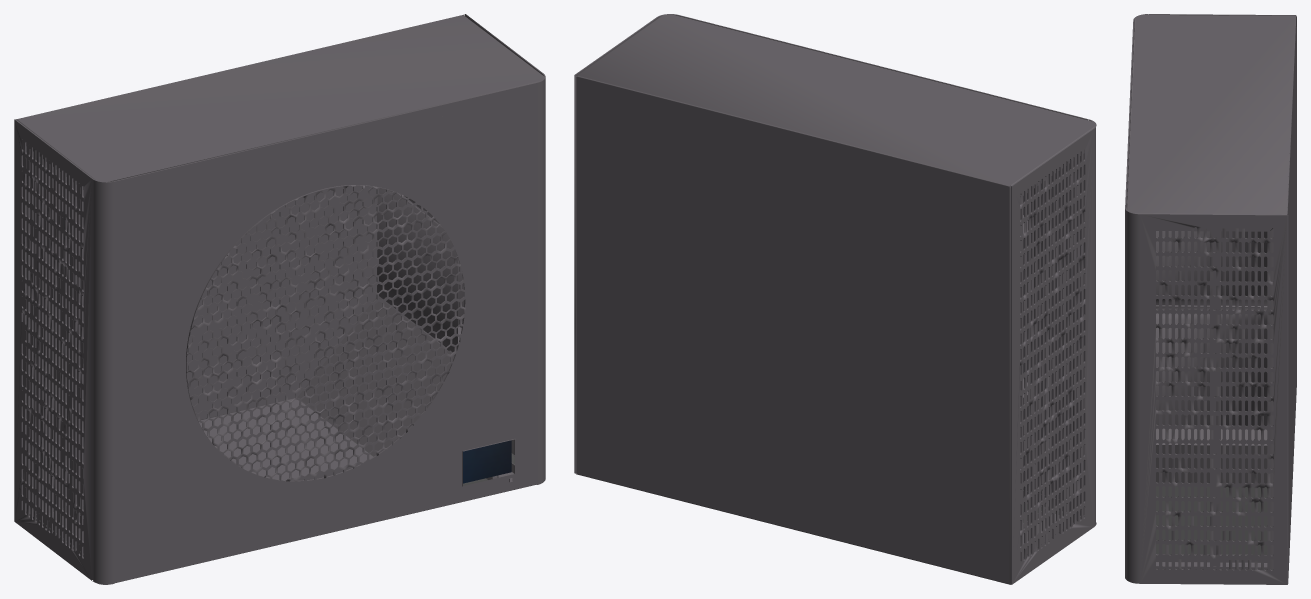
File: MRH__.glb
3 views of the same model, side by side, from view 1: azimuth 30°, elevation 25°; view 2: azimuth 150°, elevation 25°; view 3: azimuth 270°, elevation 25° (orthographic). The views are drawn at different scales.
Visible parts, largest first — view 1: imagetostl_mesh3.002, imagetostl_mesh5.003, imagetostl_mesh0.002, imagetostl_mesh3.003, imagetostl_mesh4.002, imagetostl_mesh1.002, imagetostl_mesh5.002, imagetostl_mesh2.002, imagetostl_mesh4.003, imagetostl_mesh0.003, Plane.018; view 2: imagetostl_mesh3.004, imagetostl_mesh5.003, imagetostl_mesh3.003, imagetostl_mesh3.002, imagetostl_mesh0.002, imagetostl_mesh5.002, imagetostl_mesh2.002, imagetostl_mesh4.002, imagetostl_mesh1.002, imagetostl_mesh4.003; view 3: imagetostl_mesh2.003, imagetostl_mesh5.003, imagetostl_mesh5.002, imagetostl_mesh0.003, imagetostl_mesh3.004, imagetostl_mesh4.002, imagetostl_mesh3.002, imagetostl_mesh0.002, imagetostl_mesh1.002.
Boxes of the visible parts, bbox=[...] form: imagetostl_mesh3.002: bbox=[114, 14, 542, 583]; imagetostl_mesh5.003: bbox=[16, 14, 543, 554]; imagetostl_mesh0.002: bbox=[14, 81, 539, 552]; imagetostl_mesh3.003: bbox=[14, 119, 91, 580]; imagetostl_mesh4.002: bbox=[16, 73, 545, 548]; imagetostl_mesh1.002: bbox=[21, 82, 536, 584]; imagetostl_mesh5.002: bbox=[21, 14, 544, 582]; imagetostl_mesh2.002: bbox=[21, 140, 512, 584]; imagetostl_mesh4.003: bbox=[93, 180, 113, 584]; imagetostl_mesh0.003: bbox=[537, 77, 545, 484]; Plane.018: bbox=[463, 440, 511, 483]; imagetostl_mesh3.004: bbox=[577, 77, 1009, 583]; imagetostl_mesh5.003: bbox=[576, 14, 1095, 584]; imagetostl_mesh3.003: bbox=[1012, 129, 1094, 584]; imagetostl_mesh3.002: bbox=[575, 15, 1087, 515]; imagetostl_mesh0.002: bbox=[576, 75, 1096, 584]; imagetostl_mesh5.002: bbox=[574, 14, 1085, 555]; imagetostl_mesh2.002: bbox=[1010, 149, 1085, 584]; imagetostl_mesh4.002: bbox=[577, 14, 1094, 561]; imagetostl_mesh1.002: bbox=[576, 15, 1096, 563]; imagetostl_mesh4.003: bbox=[1088, 120, 1095, 525]; imagetostl_mesh2.003: bbox=[1140, 214, 1287, 584]; imagetostl_mesh5.003: bbox=[1127, 15, 1296, 584]; imagetostl_mesh5.002: bbox=[1140, 19, 1296, 582]; imagetostl_mesh0.003: bbox=[1125, 209, 1139, 583]; imagetostl_mesh3.004: bbox=[1288, 20, 1296, 577]; imagetostl_mesh4.002: bbox=[1125, 15, 1296, 570]; imagetostl_mesh3.002: bbox=[1126, 16, 1296, 570]; imagetostl_mesh0.002: bbox=[1126, 14, 1296, 570]; imagetostl_mesh1.002: bbox=[1125, 20, 1273, 570].
Bounding box in the file's own units: 1.39 × 1.19 × 0.4996.
4 materials, 1 textured.
